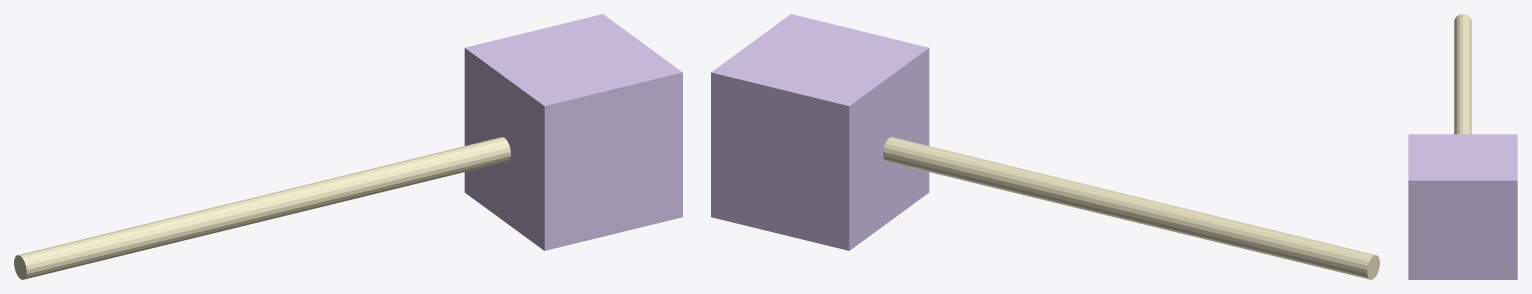
3 views of the same model, side by side, from view 1: azimuth 30°, elevation 25°; view 2: azimuth 150°, elevation 25°; view 3: azimuth 270°, elevation 25° (orthographic). The views are drawn at different scales.
Parts seen in each view (by area): view 1: scalex; view 2: scalex; view 3: scalex.
Boxes of the visible parts, x1,y1,x2,y2 form: scalex: (14,14,682,279); scalex: (711,14,1379,279); scalex: (1408,14,1517,279).
Bounding box in the file's own units: 1.12 × 0.25 × 0.25.
